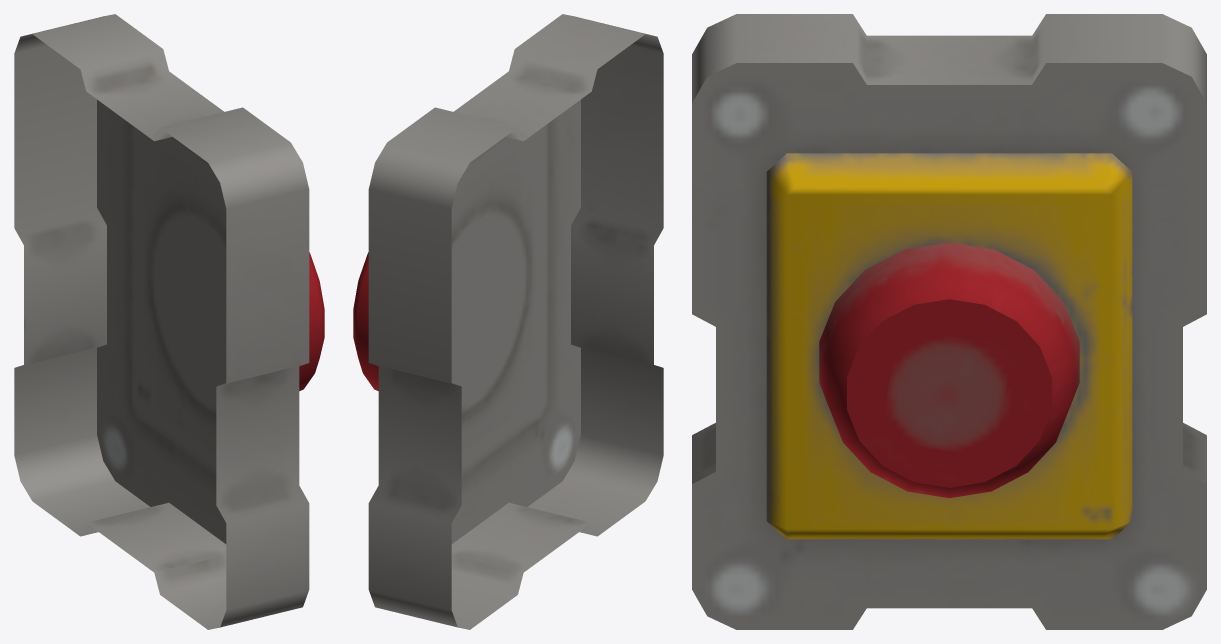
File: SM_WallSwitch_02.FBX
3 renders of one model, left to right at view 1: azimuth 30°, elevation 25°; view 2: azimuth 150°, elevation 25°; view 3: azimuth 270°, elevation 25°, orthographic. The views are drawn at different scales.
Parts seen in each view (by area): view 1: SM_WallSwitch_02_LOD0; view 2: SM_WallSwitch_02_LOD0; view 3: SM_WallSwitch_02_LOD0.
Part boxes in pixels (x1,y1,x2,y2): SM_WallSwitch_02_LOD0: [14, 14, 324, 629]; SM_WallSwitch_02_LOD0: [353, 14, 663, 629]; SM_WallSwitch_02_LOD0: [692, 14, 1206, 629].
Bounding box in the file's own units: 7.41 × 16.79 × 20.4.
